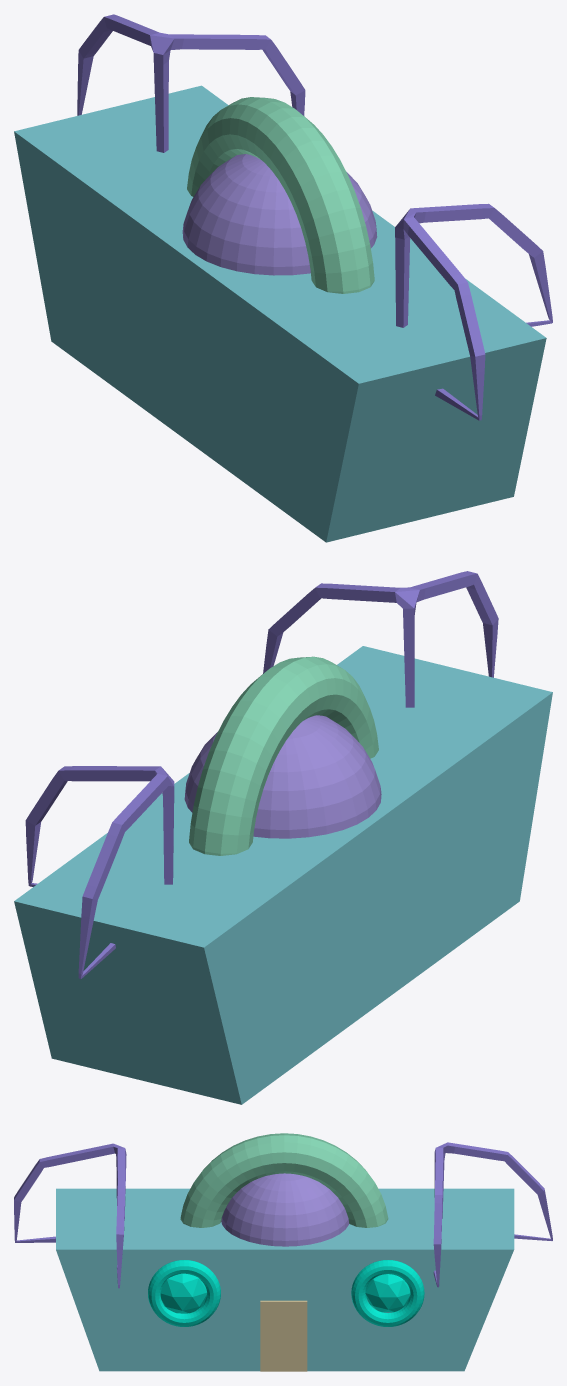
The model's file is BAT4.fbx.
3 views of the same model, one above another, from view 1: azimuth 30°, elevation 25°; view 2: azimuth 150°, elevation 25°; view 3: azimuth 270°, elevation 25° (orthographic). The views are drawn at different scales.
Parts seen in each view (by area): view 1: Cube, Torus, Cube_002, Sphere; view 2: Cube, Torus, Cube_002, Sphere; view 3: Cube, Torus, Icosphere, Sphere, Cube_002, Cube_003.
Part boxes in pixels (x1,y1,x2,y2): Cube: (14,85,546,542); Torus: (187,97,374,293); Cube_002: (77,14,552,420); Sphere: (182,154,377,275); Cube: (14,646,552,1104); Torus: (189,656,378,855); Cube_002: (25,571,498,978); Sphere: (184,715,381,838); Cube: (56,1188,514,1371); Torus: (180,1133,388,1227); Icosphere: (148,1260,424,1326); Sphere: (221,1173,349,1246); Cube_002: (14,1142,552,1288); Cube_003: (260,1300,307,1371).
Size of the model in its own units: 2.21 by 2.71 by 6.43.
